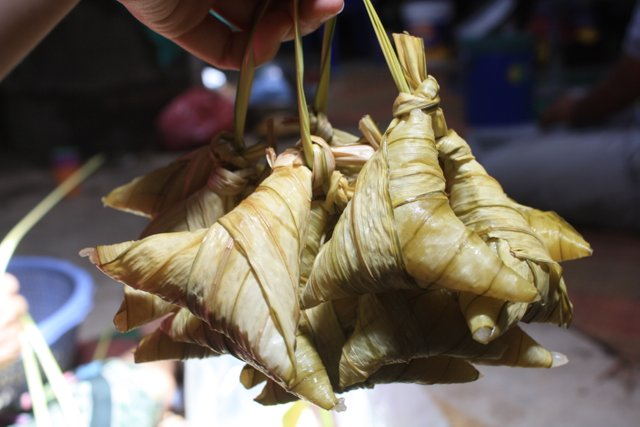kanomtom: (75, 142, 328, 404), (294, 77, 552, 321)
